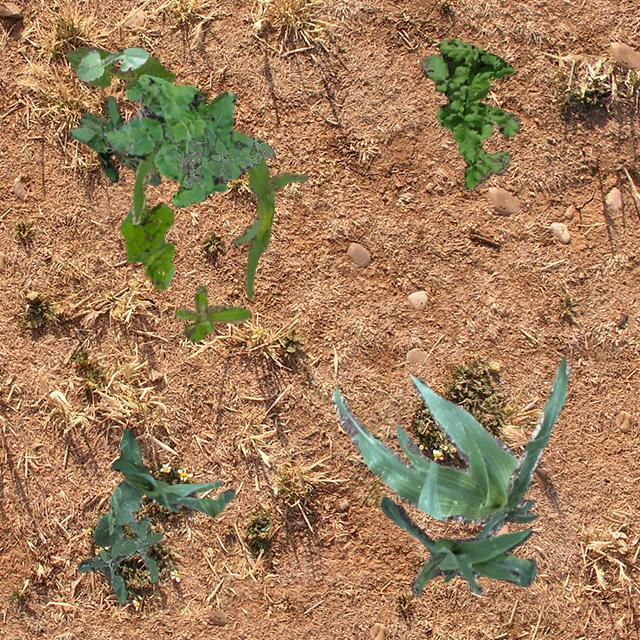crop: (330, 354, 570, 580), (130, 128, 308, 298), (380, 496, 534, 596), (110, 428, 234, 516), (64, 46, 174, 90), (92, 480, 140, 546), (76, 46, 148, 80)
weed: (101, 74, 252, 206), (419, 38, 518, 188), (68, 94, 160, 186), (77, 514, 162, 602), (170, 126, 274, 186), (118, 198, 174, 288), (173, 284, 250, 342)
